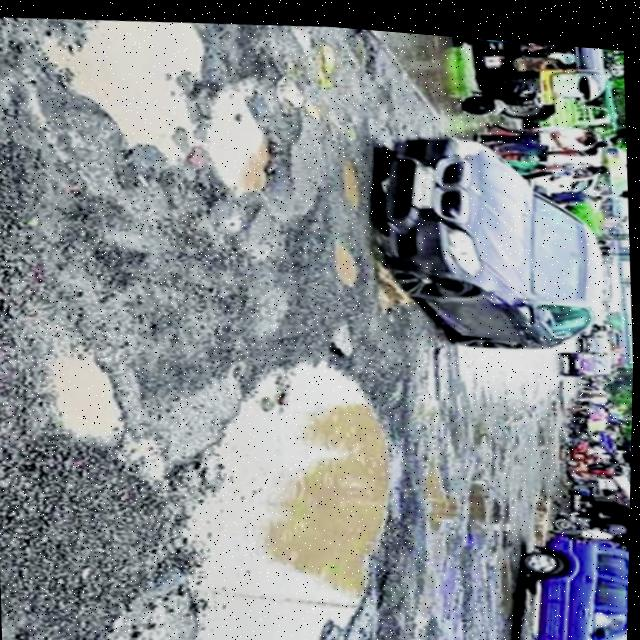Pothole: (129, 340, 421, 640), (0, 1, 287, 217), (38, 331, 150, 460), (444, 437, 527, 591), (415, 451, 476, 592), (341, 146, 375, 216), (404, 385, 448, 430), (312, 26, 340, 86), (334, 233, 362, 270), (288, 19, 319, 52), (283, 95, 318, 121)
